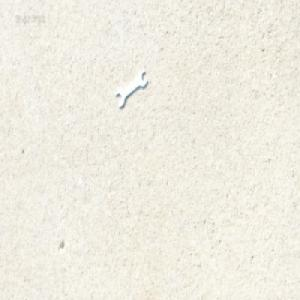Wrench: (115, 68, 148, 107)
